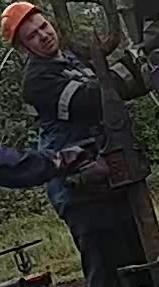gloves: (42, 138, 102, 181)
helmet: (0, 1, 42, 47)
vest: (24, 48, 109, 190)
